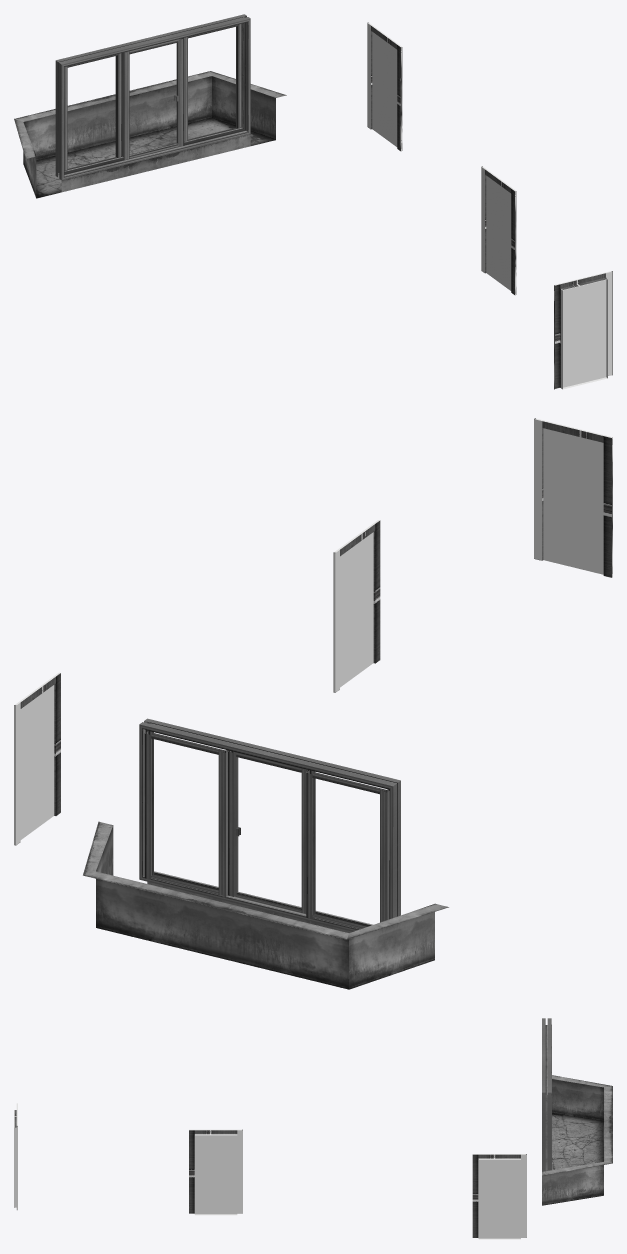
Rendered from apartment_doors.fbx.
3 views of the same model, one above another, from view 1: azimuth 30°, elevation 25°; view 2: azimuth 150°, elevation 25°; view 3: azimuth 270°, elevation 25° (orthographic). The views are drawn at different scales.
Parts seen in each view (by area): view 1: apartment_balcony, apartment_door; view 2: apartment_balcony, apartment_door; view 3: apartment_balcony.
Boxes of the visible parts, <box> form: apartment_balcony: <box>14,14,612,389</box>; apartment_door: <box>561,279,607,389</box>; apartment_balcony: <box>14,418,612,989</box>; apartment_door: <box>544,428,603,574</box>; apartment_balcony: <box>14,1018,612,1239</box>.
Size of the model in its own units: 824 by 299 by 1574.
